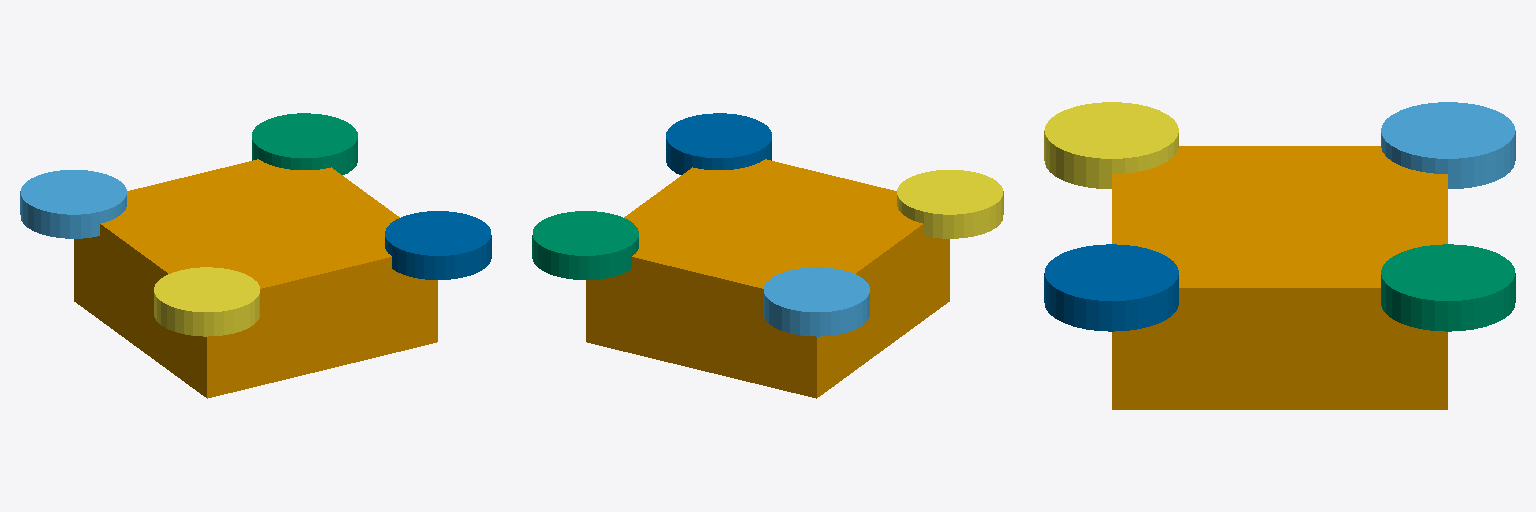
robot.urdf — omni_wheel_robot:
<?xml version="1.0"?>
<robot name="omni_wheel_robot">
    
    <link name="base_link">
        <visual>
            <geometry>
                <box size="0.5 0.5 0.2"/>
            </geometry>
            <material name="blue"/>
        </visual>
    </link>
    
    <joint name="base_to_wheel1" type="fixed">
        <parent link="base_link"/>
        <child link="wheel1"/>
        <origin xyz="-0.25 0.25 0.1" rpy="0 0 0"/>
    </joint>

    <joint name="base_to_wheel2" type="fixed">
        <parent link="base_link"/>
        <child link="wheel2"/>
        <origin xyz="0.25 0.25 0.1" rpy="0 0 0"/>
    </joint>

    <joint name="base_to_wheel3" type="fixed">
        <parent link="base_link"/>
        <child link="wheel3"/>
        <origin xyz="-0.25 -0.25 0.1" rpy="0 0 0"/>
    </joint>

    <joint name="base_to_wheel4" type="fixed">
        <parent link="base_link"/>
        <child link="wheel4"/>
        <origin xyz="0.25 -0.25 0.1" rpy="0 0 0"/>
    </joint>

    <link name="wheel1">
        <visual>
            <geometry>
                <cylinder radius="0.1" length="0.05"/>
            </geometry>
            <material name="black"/>
        </visual>
    </link>

    <link name="wheel2">
        <visual>
            <geometry>
                <cylinder radius="0.1" length="0.05"/>
            </geometry>
            <material name="black"/>
        </visual>
    </link>

    <link name="wheel3">
        <visual>
            <geometry>
                <cylinder radius="0.1" length="0.05"/>
            </geometry>
            <material name="black"/>
        </visual>
    </link>

    <link name="wheel4">
        <visual>
            <geometry>
                <cylinder radius="0.1" length="0.05"/>
            </geometry>
            <material name="black"/>
        </visual>
    </link>
</robot>

--- Facts derived from the render (not from the file) ---
3 views of the same robot in one strip: view 1: azimuth 30°, elevation 25°; view 2: azimuth 150°, elevation 25°; view 3: azimuth 270°, elevation 25° (orthographic).
Model omni_wheel_robot with 5 links and 4 joints (4 fixed), rooted at base_link, posed every joint at zero.
Links seen in each view (by area): view 1: base_link, wheel3, wheel4, wheel1, wheel2; view 2: base_link, wheel1, wheel2, wheel3, wheel4; view 3: base_link, wheel2, wheel4, wheel1, wheel3.
Boxes of the visible links, <box> form: base_link: <box>74,159,437,398</box>; wheel3: <box>154,267,259,336</box>; wheel4: <box>385,211,491,279</box>; wheel1: <box>20,170,126,238</box>; wheel2: <box>252,113,357,174</box>; base_link: <box>586,159,949,398</box>; wheel1: <box>764,267,869,336</box>; wheel2: <box>532,211,638,279</box>; wheel3: <box>897,170,1003,238</box>; wheel4: <box>666,113,771,174</box>; base_link: <box>1112,146,1447,409</box>; wheel2: <box>1381,244,1515,331</box>; wheel4: <box>1044,244,1178,331</box>; wheel1: <box>1381,102,1515,188</box>; wheel3: <box>1044,102,1178,188</box>.
Size in the robot's own frame: 0.7 by 0.7 by 0.225 metres.
Geometry: primitives only (box / cylinder / sphere), no mesh files.
